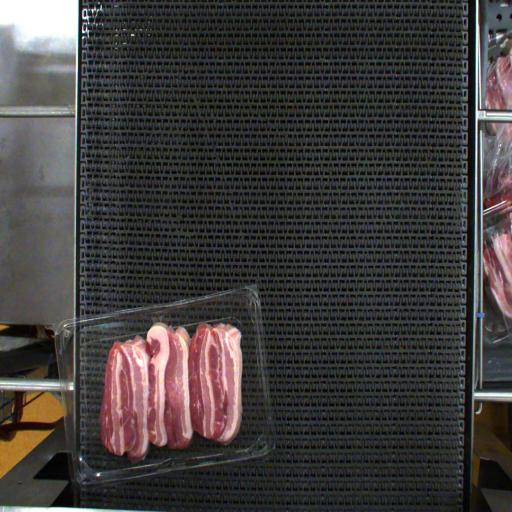packaging-error: (149, 317, 165, 326)
